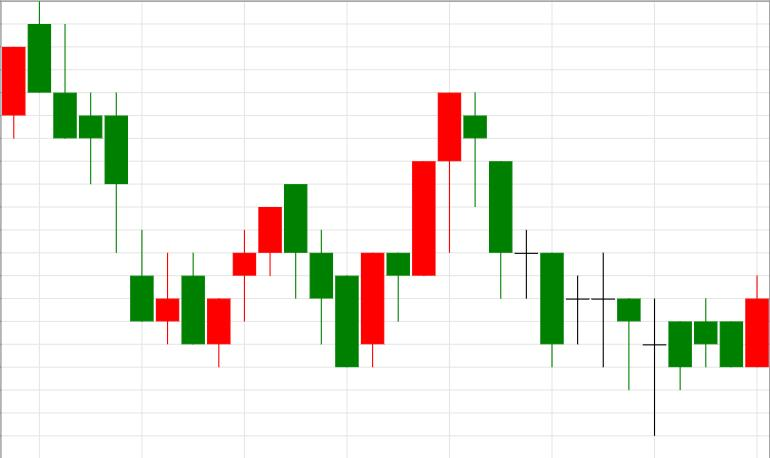bullish_engulfing_rise: (284, 184, 384, 367)
hammer_rise: (463, 93, 641, 391)
